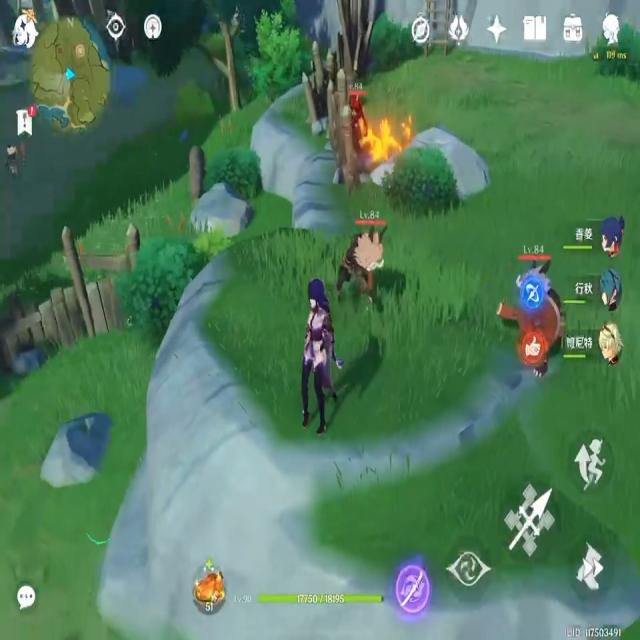genshin-hilichurls: (502, 247, 556, 362), (333, 222, 388, 310), (2, 136, 30, 182)
